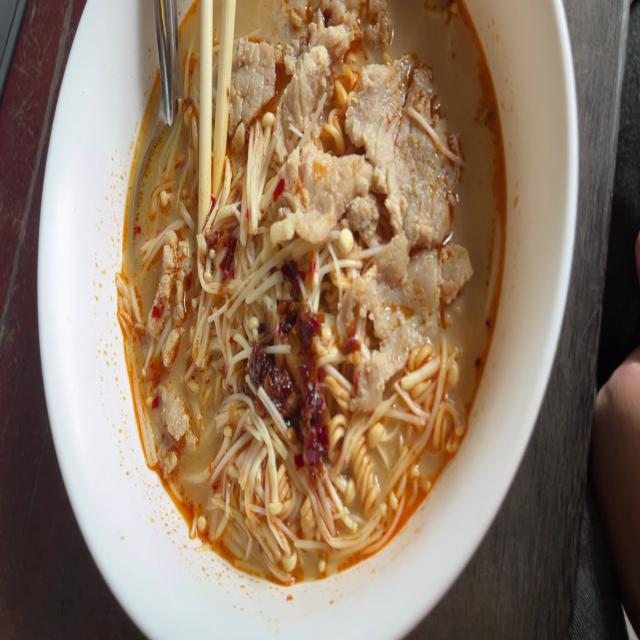noodle: (117, 0, 510, 588)
